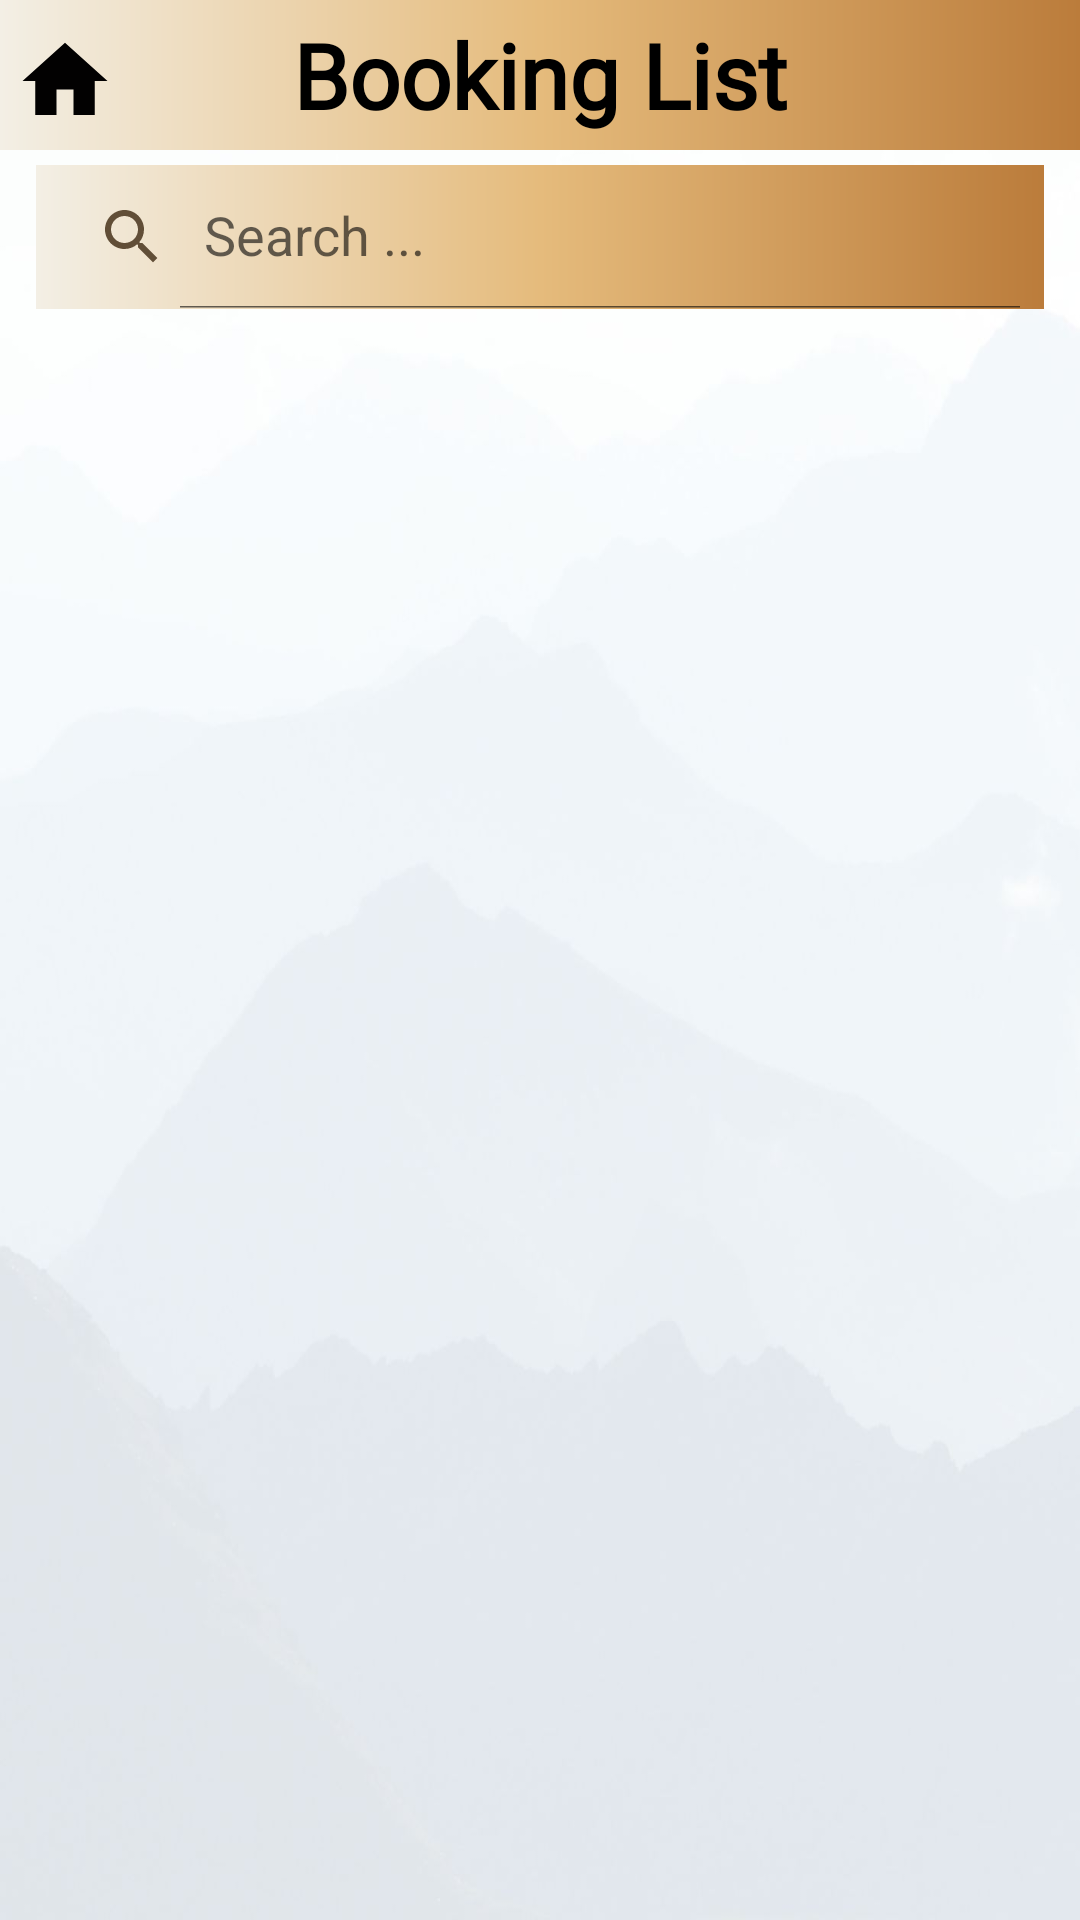

Point at icon controls on the screen. Image size 1080x1920, points as (x,y).
home: (65,79)
